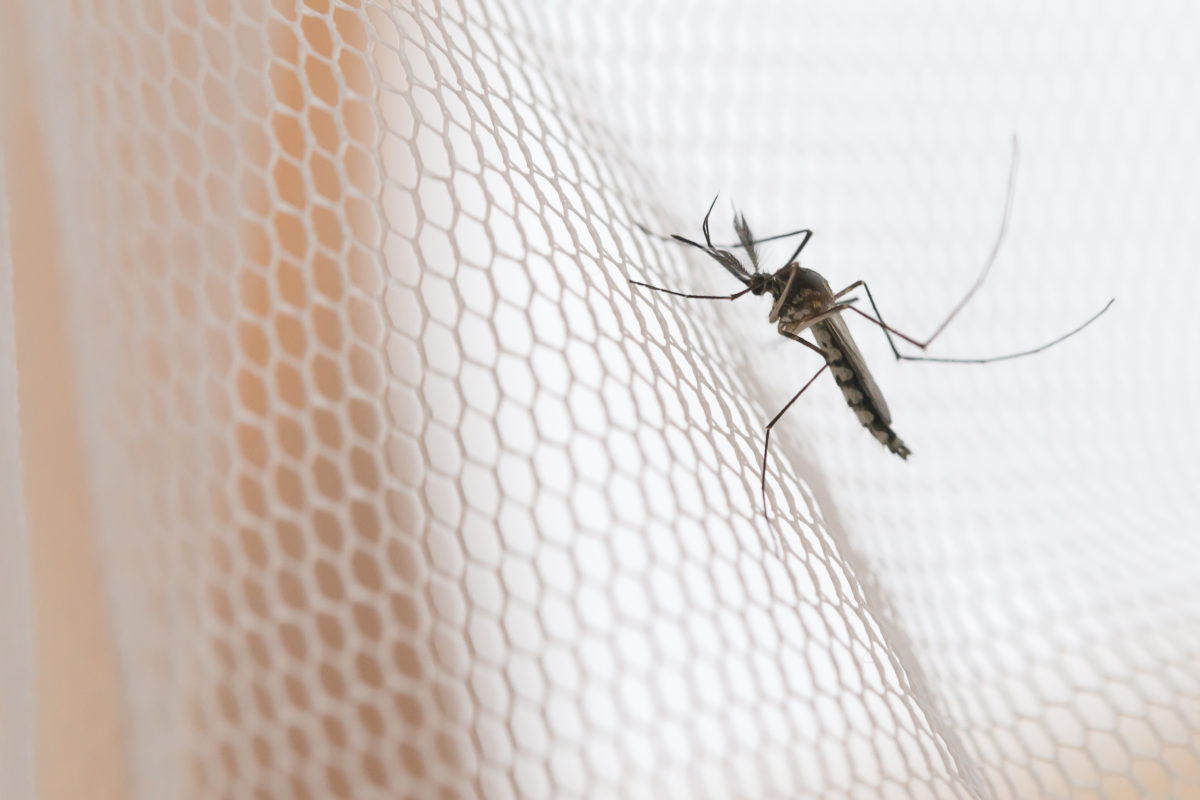mosquito: (578, 114, 1100, 524)
